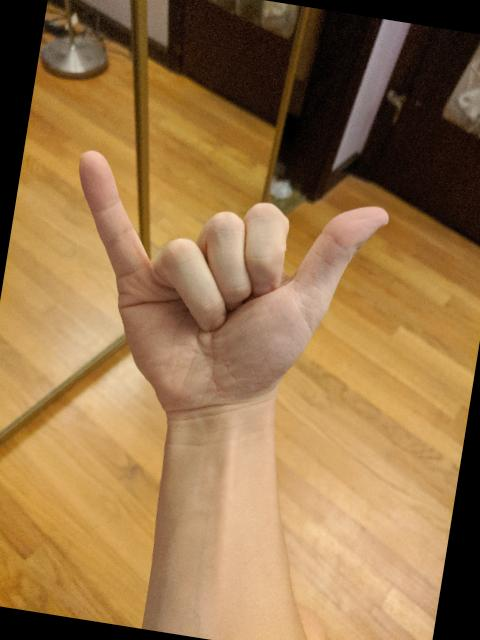Y: (36, 142, 397, 448)
